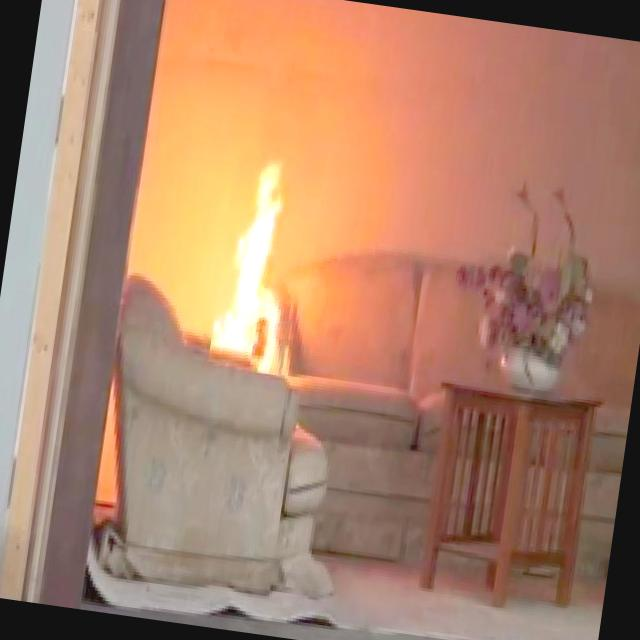fire: (187, 156, 316, 362)
